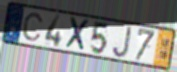4: (43, 13, 64, 49)
5: (88, 20, 111, 56)
7: (134, 28, 157, 62)
C: (21, 12, 45, 43)
J: (111, 25, 133, 59)
X: (64, 16, 91, 53)
